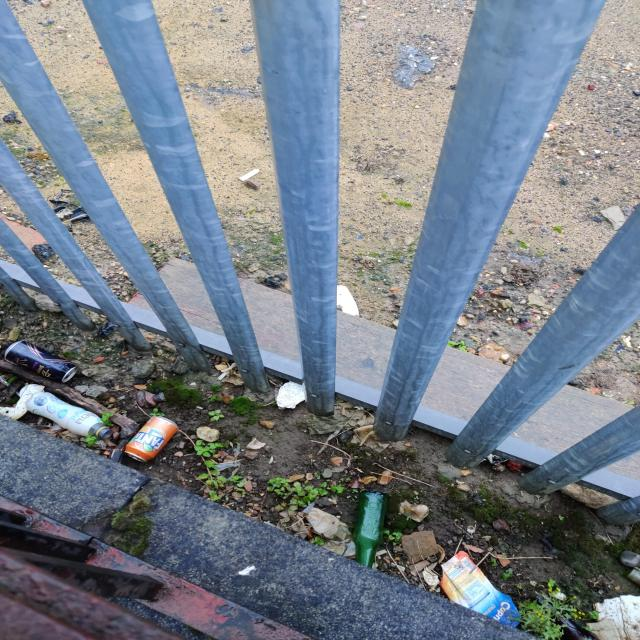litter: (432, 548, 523, 628), (16, 387, 111, 439), (347, 484, 392, 564), (0, 339, 77, 383), (120, 415, 178, 461)
